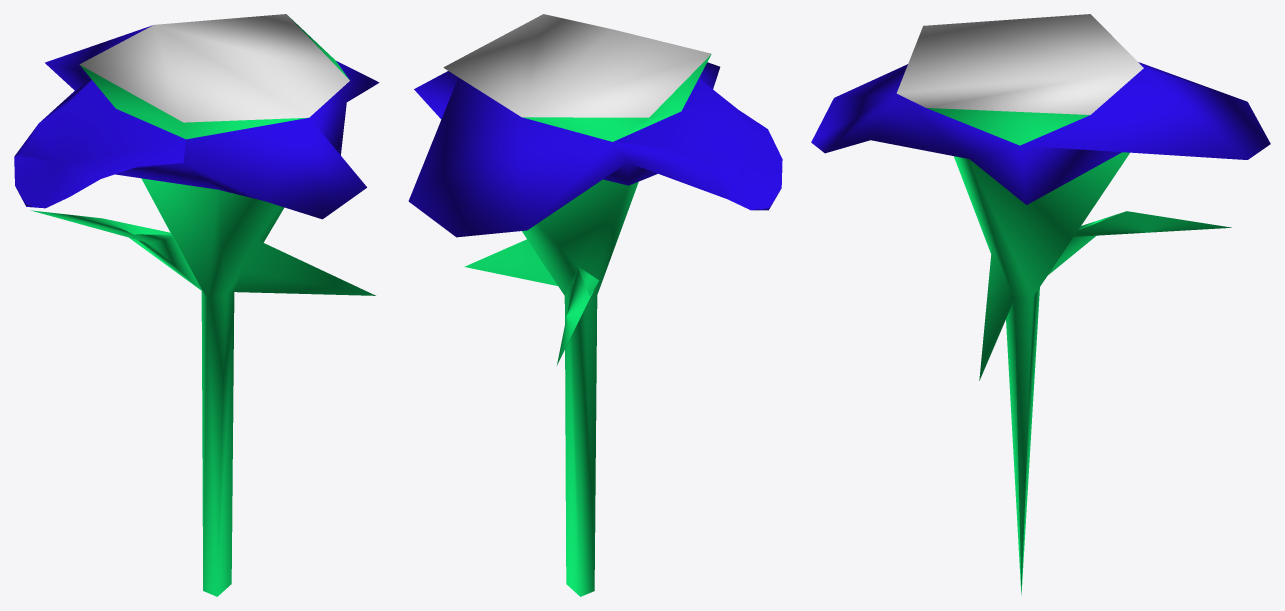
The model's file is SD_Plant1.fbx.
The picture shows the model from 3 angles, left to right: view 1: azimuth 30°, elevation 25°; view 2: azimuth 150°, elevation 25°; view 3: azimuth 270°, elevation 25°; orthographic projection.
Visible parts, largest first — view 1: Cube; view 2: Cube; view 3: Cube.
Boxes of the visible parts, x1,y1,x2,y2 form: Cube: [14, 14, 379, 596]; Cube: [408, 14, 782, 596]; Cube: [811, 14, 1270, 595].
Size of the model in its own units: 0.1415 by 0.2025 by 0.1585.
